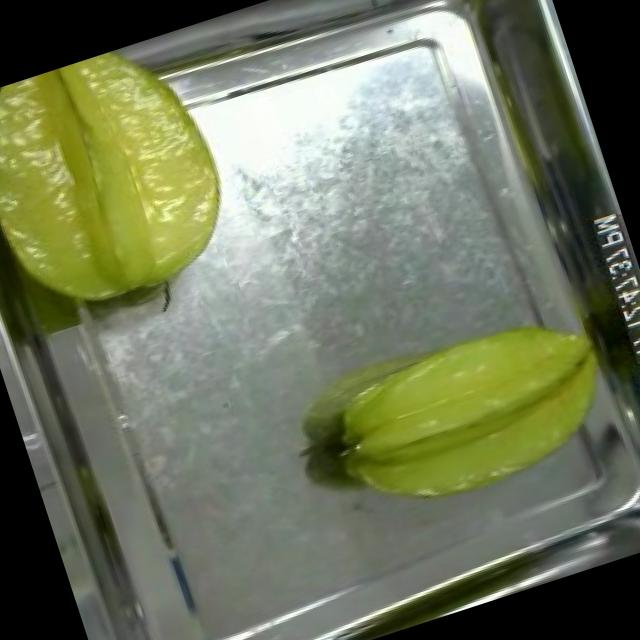fruit: (293, 287, 640, 548), (0, 28, 259, 347)
